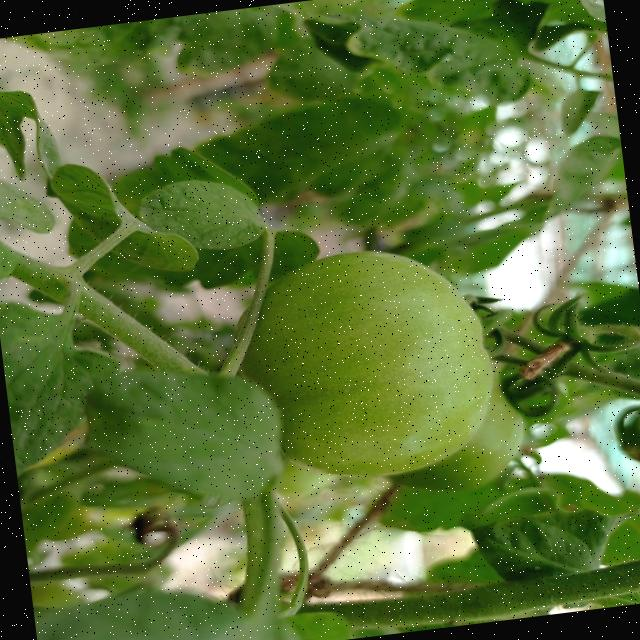Unripe: (230, 236, 510, 488)
